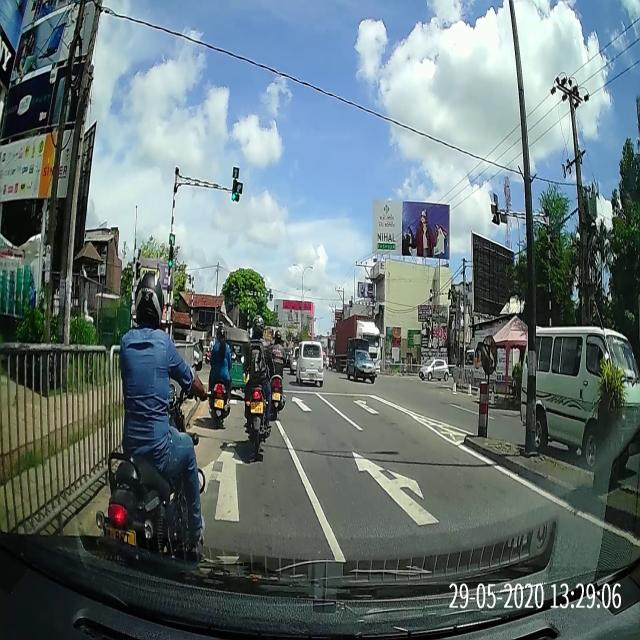forward: (275, 394, 355, 426)
forward_right: (286, 447, 487, 554), (289, 455, 480, 551), (292, 457, 468, 543), (290, 449, 433, 510), (296, 458, 435, 514)
